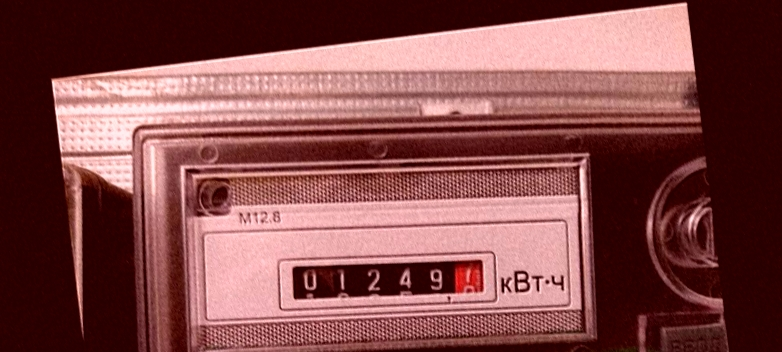0: (298, 266, 318, 294)
1: (330, 265, 347, 293)
2: (360, 267, 380, 295)
4: (393, 264, 412, 291)
7: (457, 258, 475, 286)
9: (423, 266, 443, 294)
screen: (269, 232, 501, 332)
